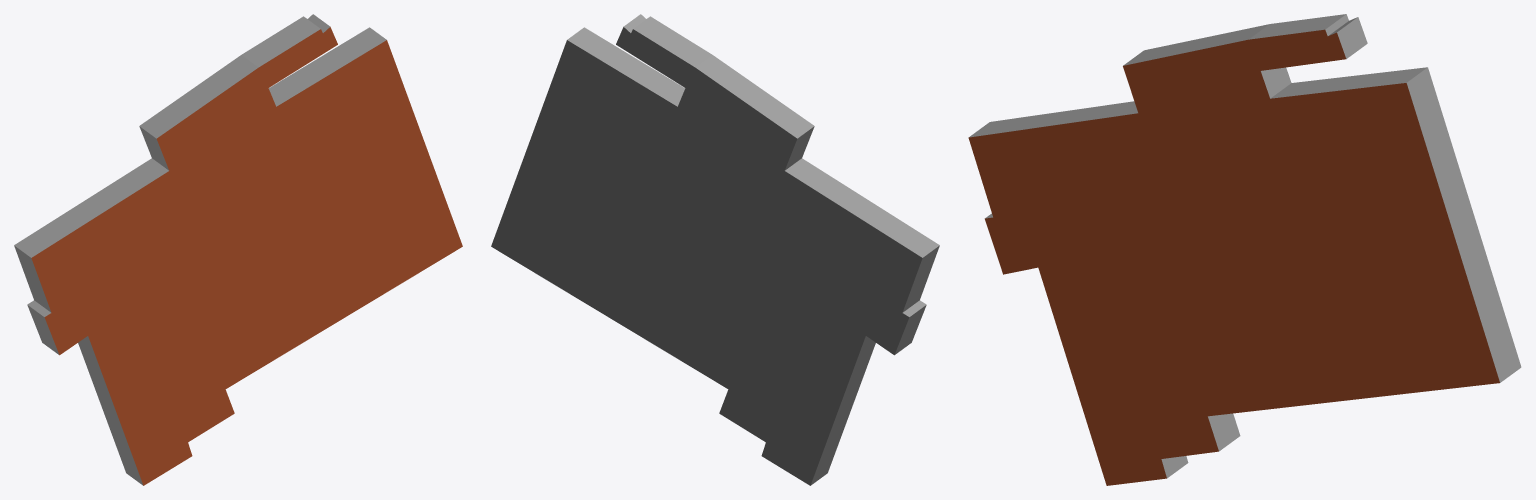
The model's file is construction_0133_assumed_A_Grande_construcao_h6m.obj.
3 views of the same model, side by side, from view 1: azimuth 30°, elevation 25°; view 2: azimuth 150°, elevation 25°; view 3: azimuth 330°, elevation 25° (orthographic). The views are drawn at different scales.
Visible parts, largest first — view 1: construction_0133_assumed_A_Grande_construcao; view 2: construction_0133_assumed_A_Grande_construcao; view 3: construction_0133_assumed_A_Grande_construcao.
Part boxes in pixels (x1,y1,x2,y2): construction_0133_assumed_A_Grande_construcao: (14,14,462,485); construction_0133_assumed_A_Grande_construcao: (491,14,939,485); construction_0133_assumed_A_Grande_construcao: (968,14,1521,485).
Size of the model in its own units: 86.2 by 78.95 by 6.
